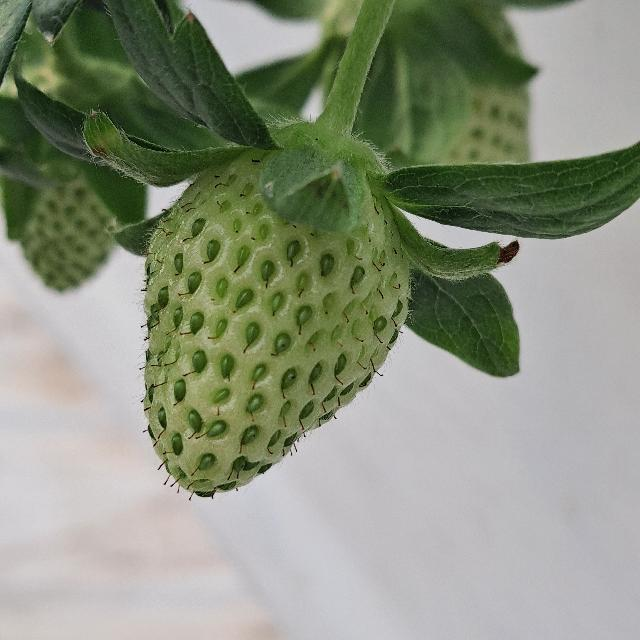Health_25: (143, 147, 411, 493)
